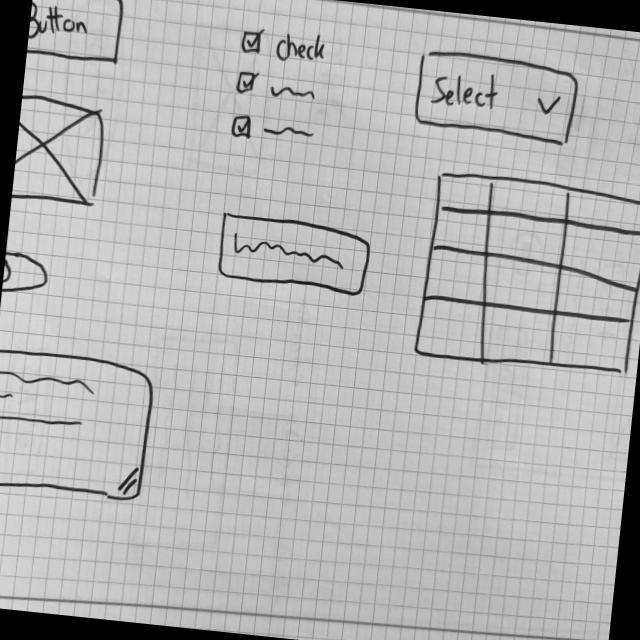button: (27, 1, 129, 68)
checkbox: (232, 64, 324, 108), (240, 24, 329, 66), (228, 111, 318, 150)
image: (12, 91, 113, 213)
input: (215, 208, 377, 301)
select: (412, 44, 583, 149)
table: (412, 166, 640, 382)
textbox: (1, 342, 161, 506)
toggle: (3, 249, 51, 298)
